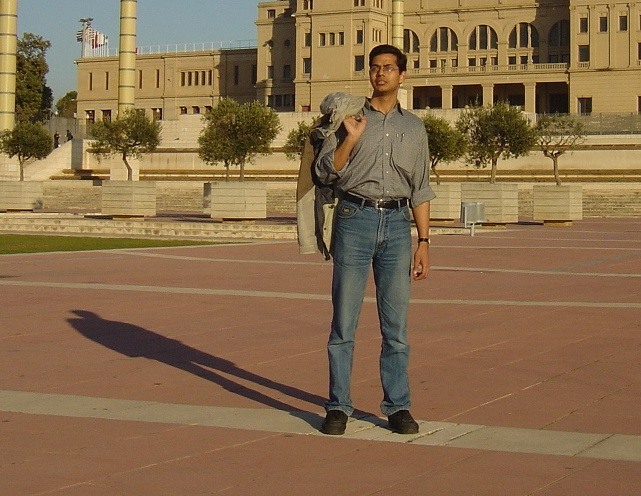person: (316, 37, 434, 440)
